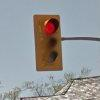Traffic light: (25, 9, 72, 75)
